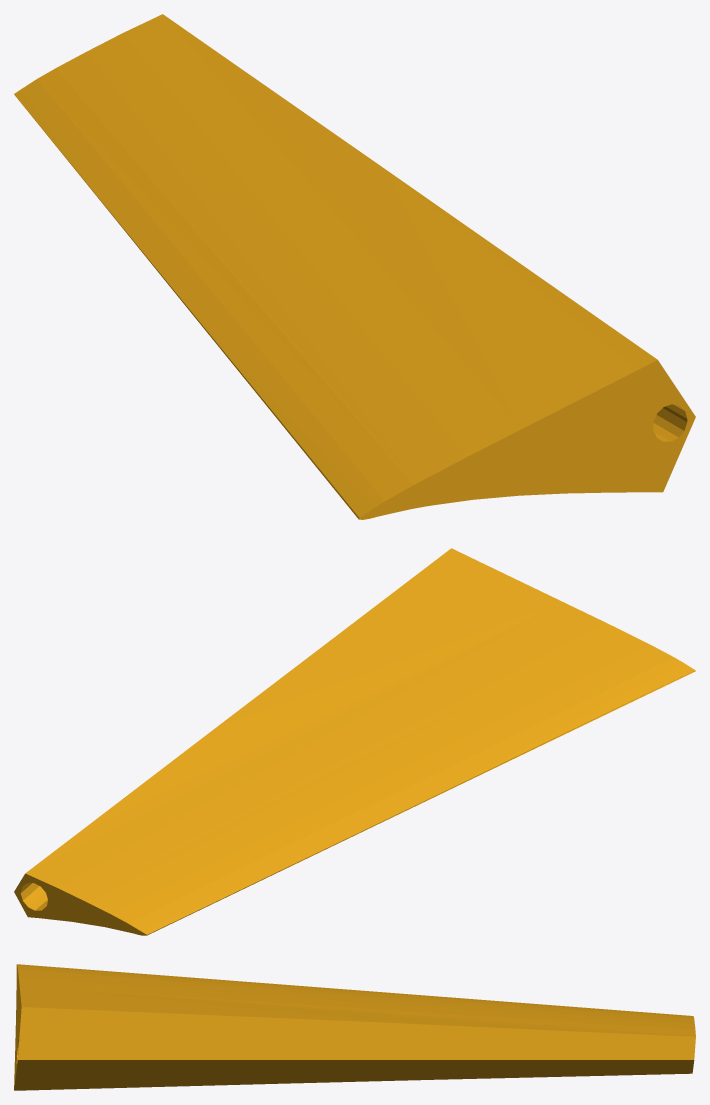
File: aileronL_yellow.dae
3 renders of one model, top to bottom at view 1: azimuth 30°, elevation 25°; view 2: azimuth 150°, elevation 25°; view 3: azimuth 270°, elevation 25°, orthographic. The views are drawn at different scales.
Visible parts, largest first — view 1: Aileron_L; view 2: Aileron_L; view 3: Aileron_L.
Boxes of the visible parts, x1,y1,x2,y2 form: Aileron_L: [14, 14, 695, 519]; Aileron_L: [14, 548, 695, 935]; Aileron_L: [14, 964, 695, 1090].
Size of the model in its own units: 0.0393 by 0.1048 by 0.0142.
